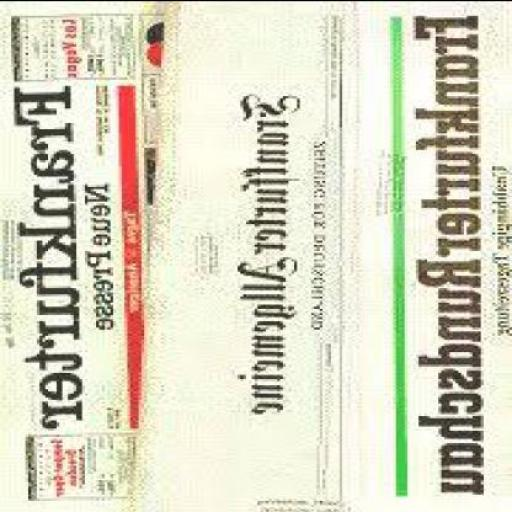paper: (153, 1, 341, 511), (0, 1, 172, 510), (337, 2, 509, 510)
